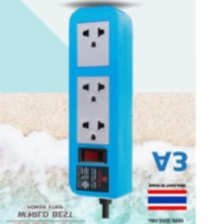three_eye_plug: (61, 2, 137, 202)
